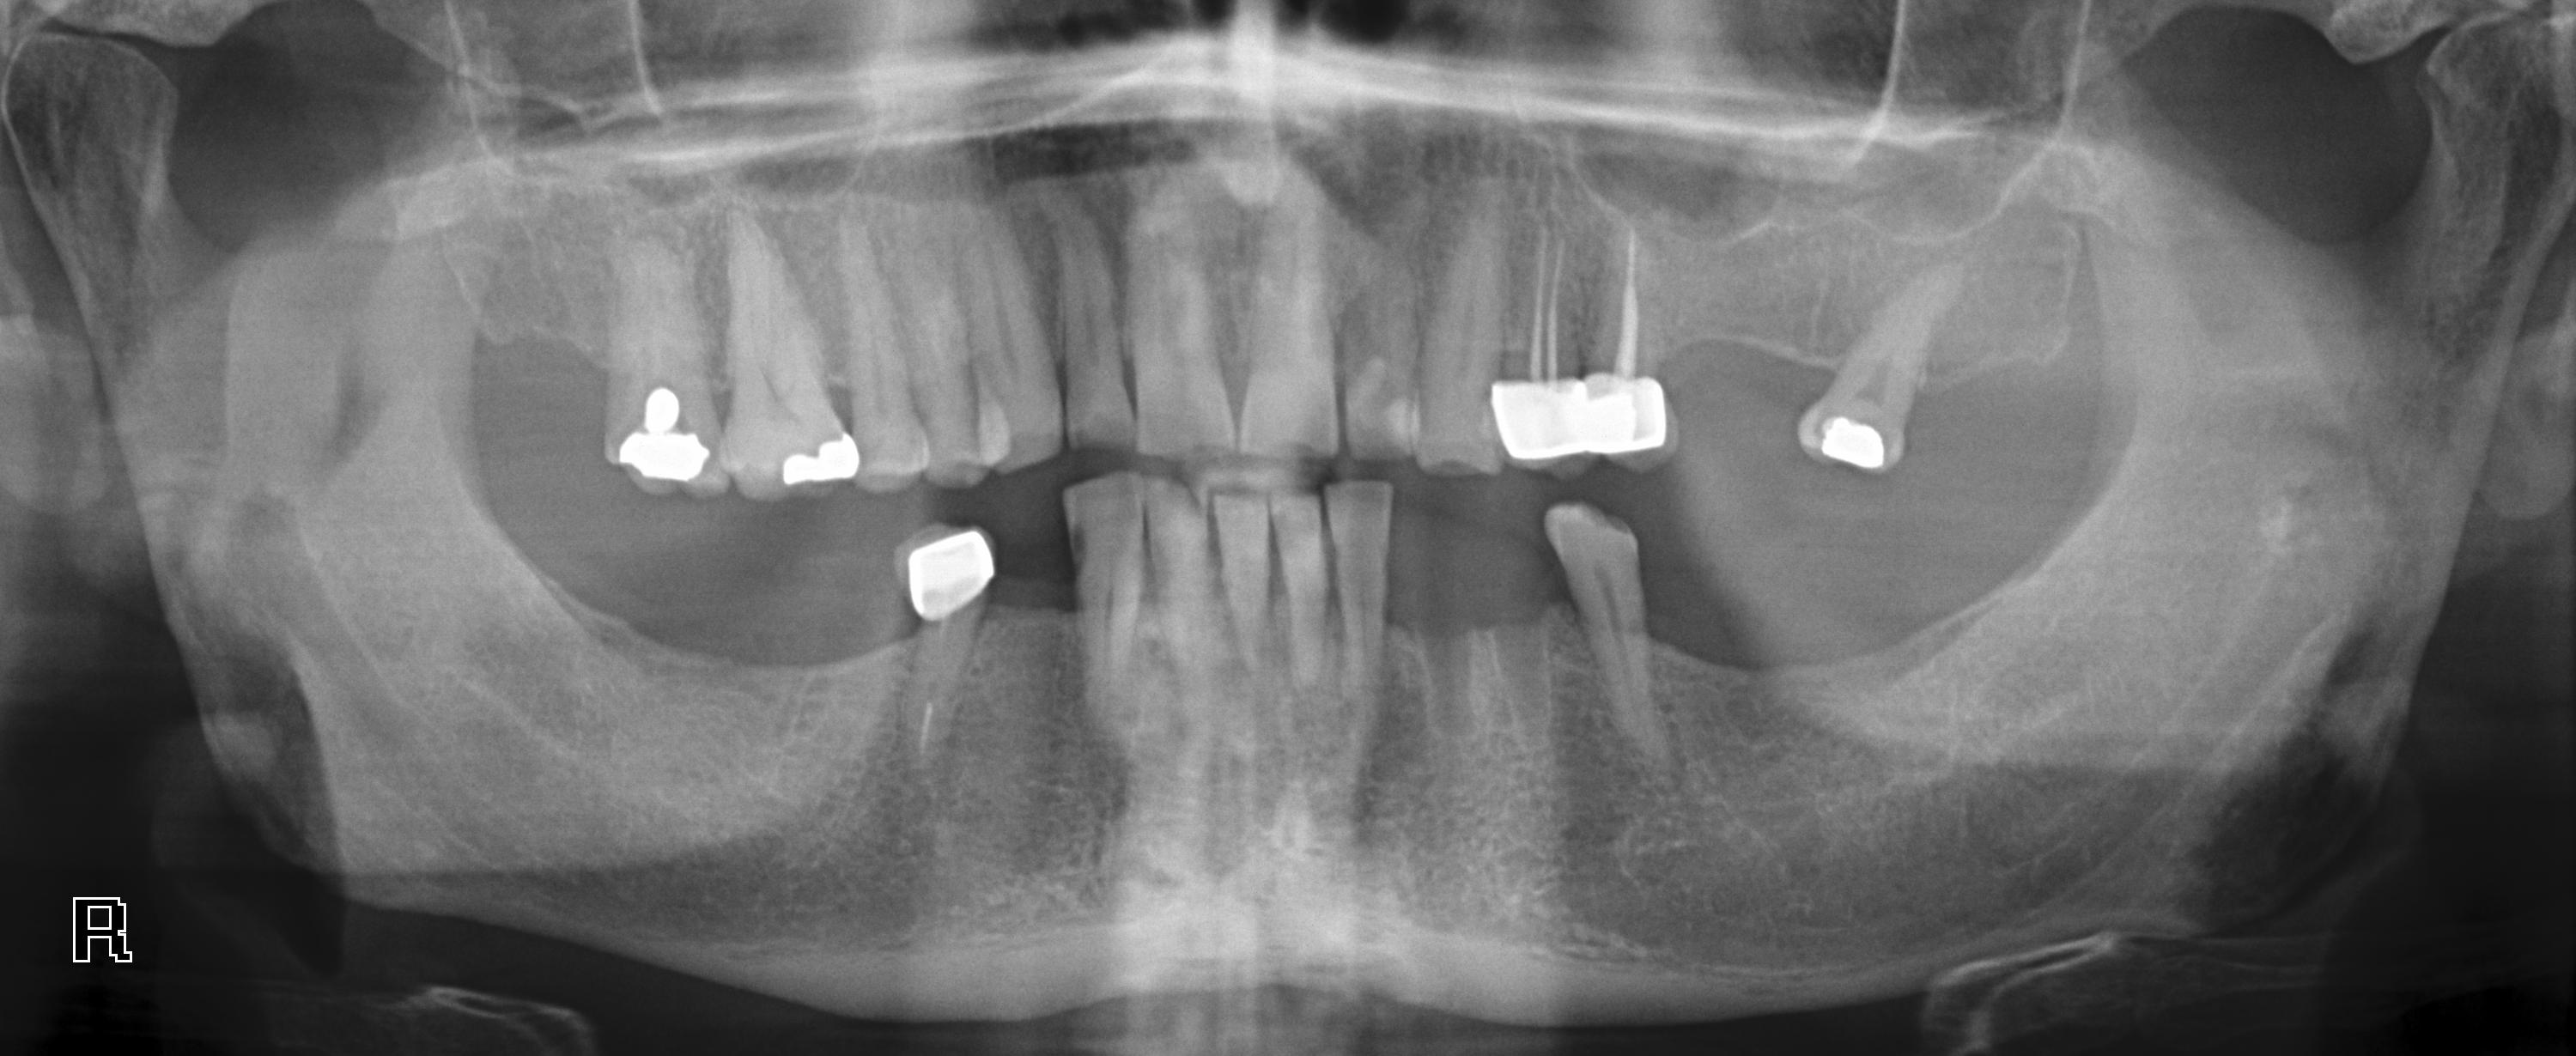Çürük: (608, 388, 711, 488), (1482, 368, 1589, 463), (899, 527, 1000, 621), (1582, 356, 1666, 470), (790, 430, 871, 496), (1820, 417, 1889, 473)
Çürük Bölgesi: (1865, 409, 1901, 457), (785, 425, 833, 453)
